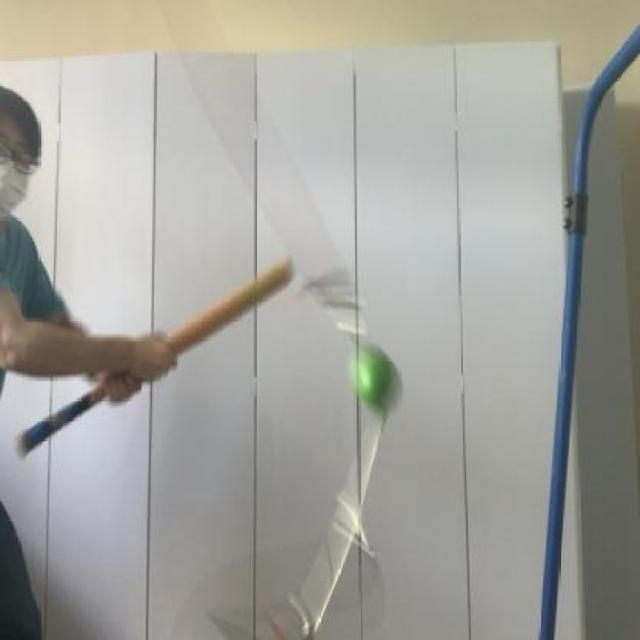baseball: (346, 334, 411, 424)
